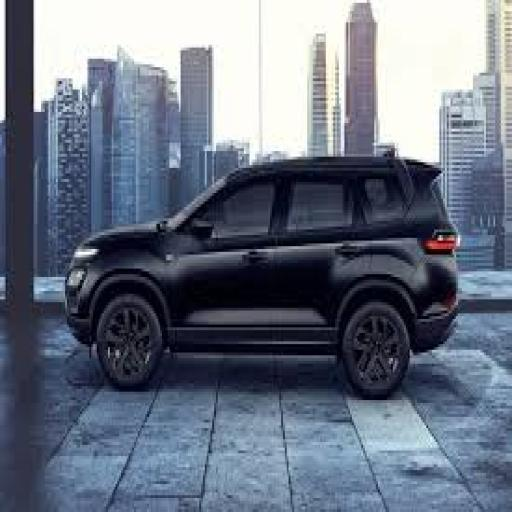car: (58, 146, 482, 433)
